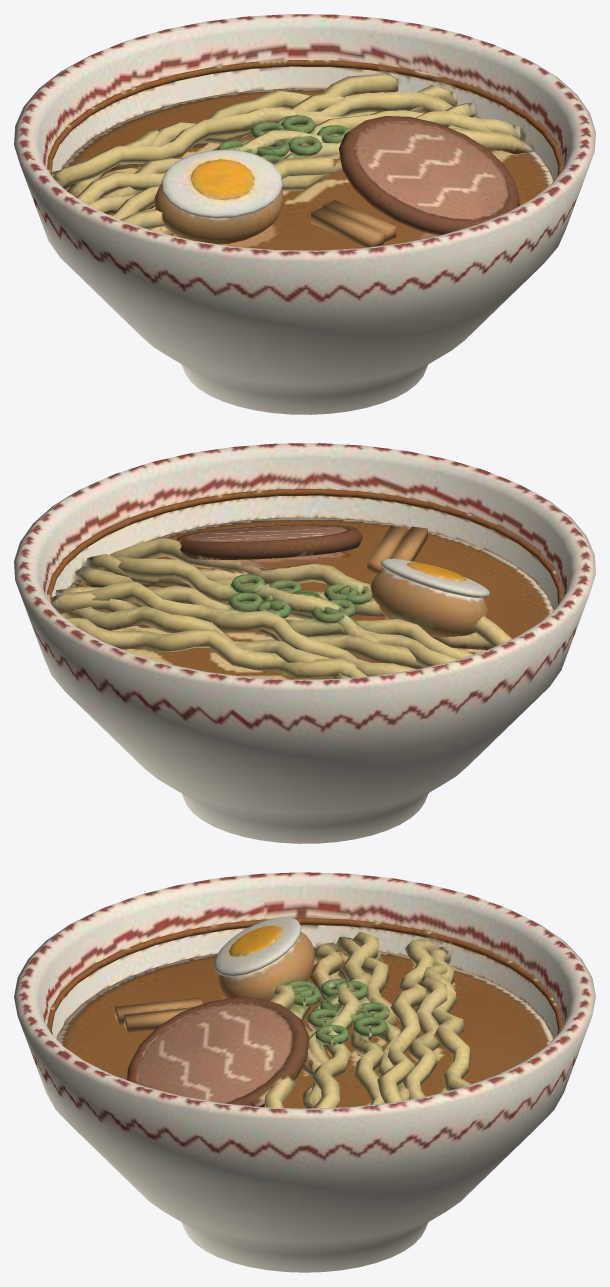
The model's file is ramen_shoyu_b1.glb.
3 views of the same model, one above another, from view 1: azimuth 30°, elevation 25°; view 2: azimuth 150°, elevation 25°; view 3: azimuth 270°, elevation 25° (orthographic).
Visible parts, largest first — view 1: prop_ramen_shoyu_b1_felt; view 2: prop_ramen_shoyu_b1_felt; view 3: prop_ramen_shoyu_b1_felt.
Part boxes in pixels (box(x1,y1,x2,y2)): prop_ramen_shoyu_b1_felt: box(14, 14, 595, 414); prop_ramen_shoyu_b1_felt: box(14, 443, 595, 843); prop_ramen_shoyu_b1_felt: box(14, 872, 595, 1272).
Bounding box in the file's own units: 0.3 × 0.1362 × 0.3.
Materials: 1 (1 with a texture image).
